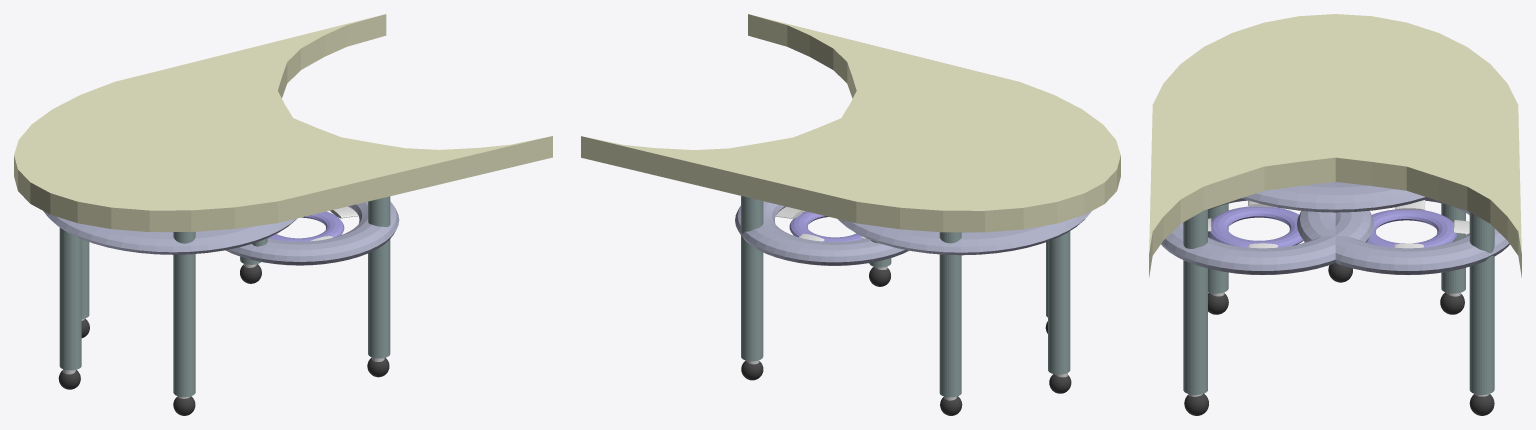
The model's file is table.fbx.
3 renders of one model, left to right at view 1: azimuth 30°, elevation 25°; view 2: azimuth 150°, elevation 25°; view 3: azimuth 270°, elevation 25°, orthographic. The views are drawn at different scales.
Visible parts, largest first — view 1: 円柱.010, Torus, Torus.002, 円柱, 円柱.004, 円柱.002, Torus.006, 円柱.001; view 2: 円柱.010, Torus, Torus.001, 円柱.001, 円柱.003, 円柱.002, Torus.004; view 3: 円柱.010, Torus.002, Torus.001, 円柱.003, 円柱.004, Torus, Torus.006, Torus.004, 円柱.001, 円柱, 球.004, 球.003 (+3 smaller).
Part boxes in pixels (box(x1,y1,x2,y2)): 円柱.010: box(14, 14, 552, 231); Torus: box(43, 211, 296, 254); Torus.002: box(225, 201, 399, 265); 円柱: box(173, 231, 195, 396); 円柱.004: box(368, 196, 390, 358); 円柱.002: box(59, 228, 81, 370); Torus.006: box(268, 211, 344, 241); 円柱.001: box(81, 239, 89, 318); 円柱.010: box(581, 14, 1120, 232); Torus: box(838, 211, 1091, 255); Torus.001: box(735, 201, 908, 265); 円柱.001: box(939, 232, 961, 397); 円柱.003: box(741, 196, 763, 361); 円柱.002: box(1048, 231, 1070, 374); Torus.004: box(789, 211, 862, 241); 円柱.010: box(1149, 14, 1521, 277); Torus.002: box(1161, 198, 1373, 274); Torus.001: box(1297, 198, 1509, 274); 円柱.003: box(1469, 212, 1494, 394); 円柱.004: box(1183, 209, 1207, 394); Torus: box(1241, 182, 1429, 212); Torus.006: box(1208, 206, 1303, 247); Torus.004: box(1366, 209, 1457, 247); 円柱.001: box(1441, 203, 1465, 293); 円柱: box(1208, 203, 1228, 293); 球.004: box(1469, 394, 1494, 415); 球.003: box(1184, 393, 1208, 415).
Size of the model in its own units: 638 by 303 by 419.
